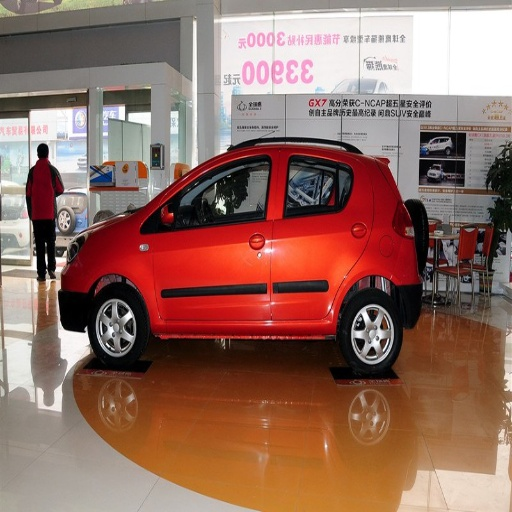back_left_door: (271, 146, 370, 320)
